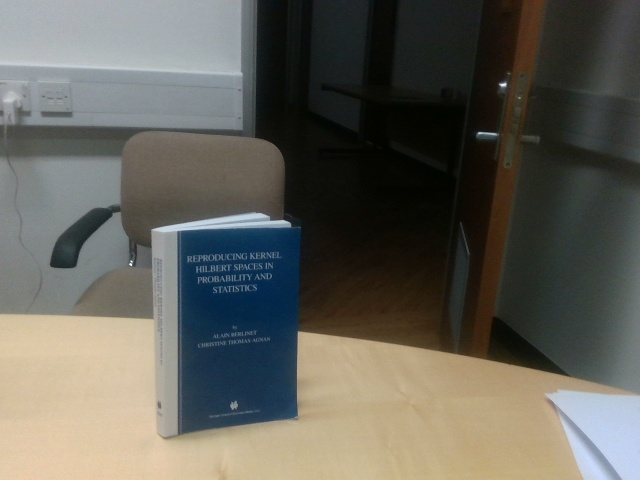book: (151, 213, 302, 438)
